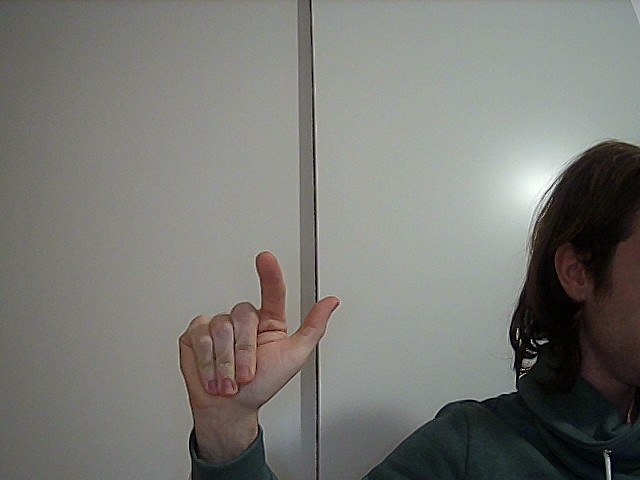t: (161, 242, 353, 424)
